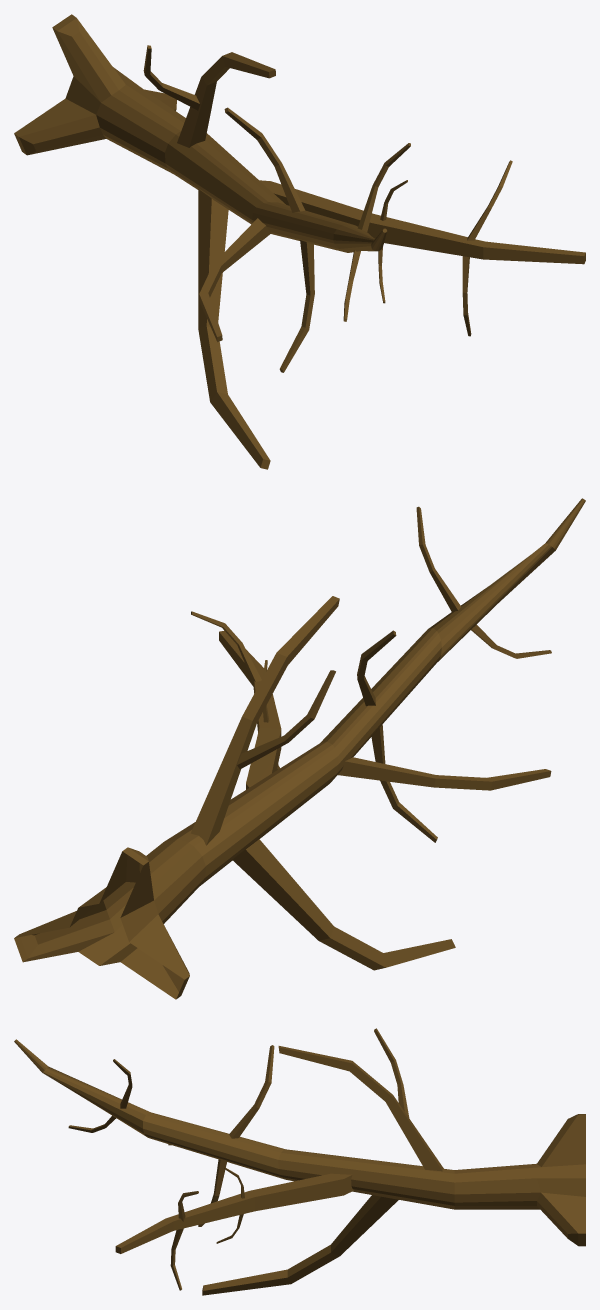
3 views of the same model, one above another, from view 1: azimuth 30°, elevation 25°; view 2: azimuth 150°, elevation 25°; view 3: azimuth 270°, elevation 25° (orthographic). The views are drawn at different scales.
Parts seen in each view (by area): view 1: _11_tree; view 2: _11_tree; view 3: _11_tree.
Boxes of the visible parts, bbox=[...] form: _11_tree: bbox=[14, 14, 585, 469]; _11_tree: bbox=[14, 498, 585, 999]; _11_tree: bbox=[14, 1028, 585, 1295].
Bounding box in the file's own units: 109 × 107 × 206.
